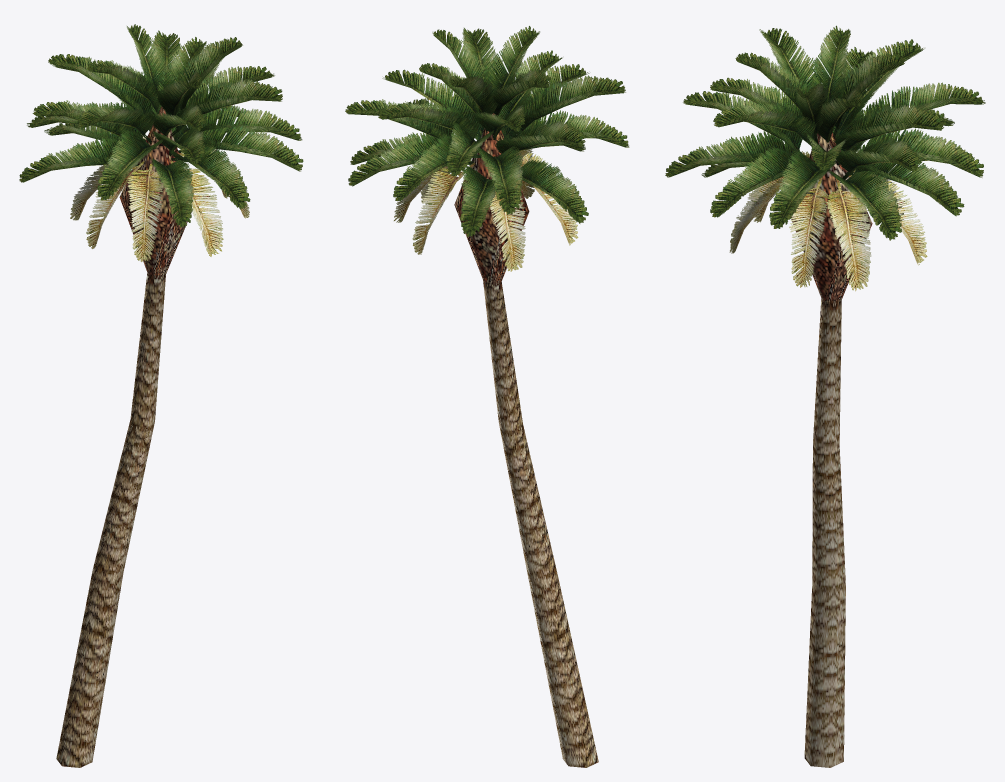
File: tree_cretan_date_palm_06.dae
The picture shows the model from 3 angles, left to right: view 1: azimuth 30°, elevation 25°; view 2: azimuth 150°, elevation 25°; view 3: azimuth 270°, elevation 25°; orthographic projection. The views are drawn at different scales.
Visible parts, largest first — view 1: tree_cretan_date_palm_06; view 2: tree_cretan_date_palm_06; view 3: tree_cretan_date_palm_06.
Part boxes in pixels (left/top/right/bottom): tree_cretan_date_palm_06: left=19, top=24, right=303, bottom=767; tree_cretan_date_palm_06: left=345, top=26, right=629, bottom=767; tree_cretan_date_palm_06: left=665, top=25, right=985, bottom=767.
Size of the model in its own units: 9.03 by 23.91 by 9.32.
